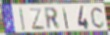4: (77, 5, 90, 32)
C: (90, 6, 106, 30)
I: (19, 7, 26, 33), (62, 7, 69, 30)
R: (43, 7, 62, 32)
Z: (29, 8, 46, 31)
